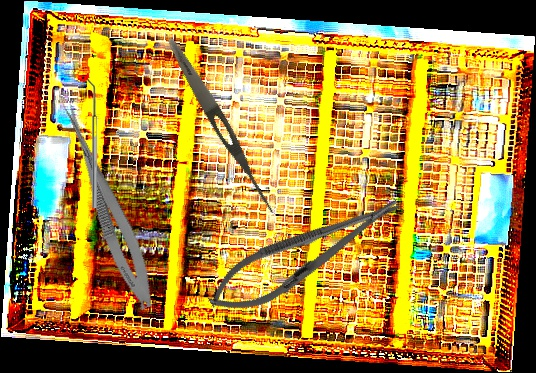Dressing Forceps: (162, 34, 282, 219)
Micro Scissor: (48, 98, 164, 313)
Needle Holder: (198, 181, 412, 328)
Spatula Surgical: (87, 79, 97, 208)
